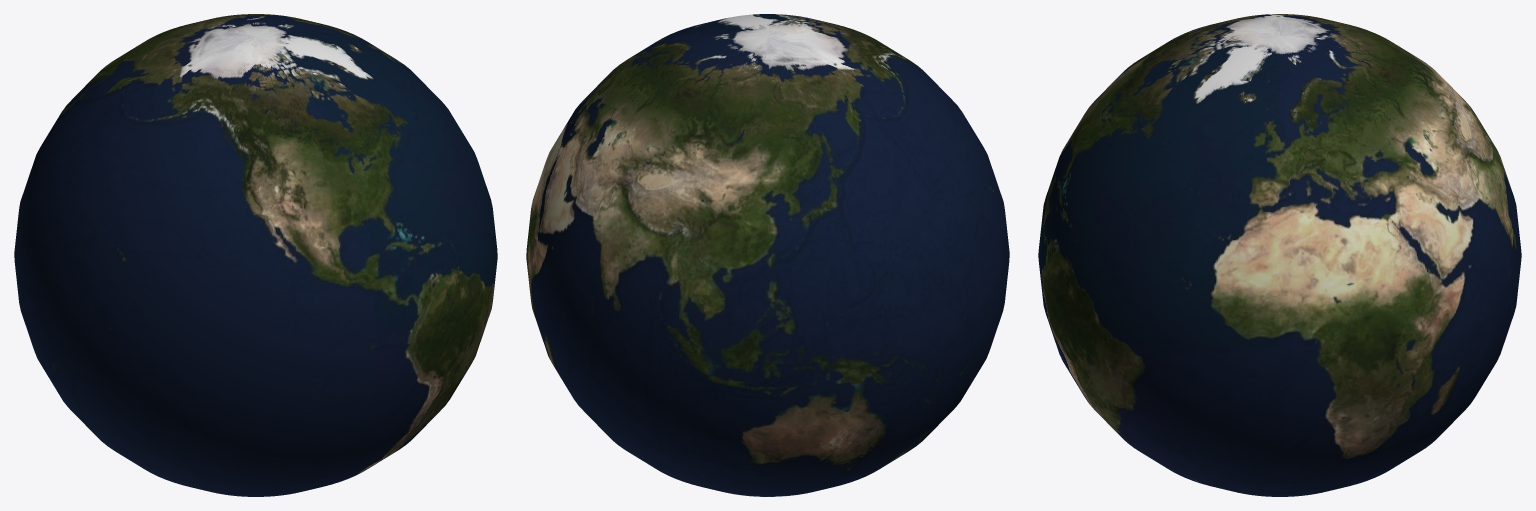
Rendered from earth.fbx.
3 views of the same model, side by side, from view 1: azimuth 30°, elevation 25°; view 2: azimuth 150°, elevation 25°; view 3: azimuth 270°, elevation 25° (orthographic).
Parts seen in each view (by area): view 1: Sphere; view 2: Sphere; view 3: Sphere.
Boxes of the visible parts, bbox=[...] form: Sphere: bbox=[14, 14, 497, 496]; Sphere: bbox=[526, 14, 1009, 496]; Sphere: bbox=[1038, 14, 1521, 496].
Bounding box in the file's own units: 2 × 2 × 2.
1 material, 1 textured.
